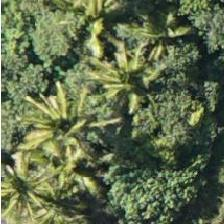coconut_tree: (16, 77, 106, 167), (79, 18, 169, 108), (0, 141, 63, 223)
